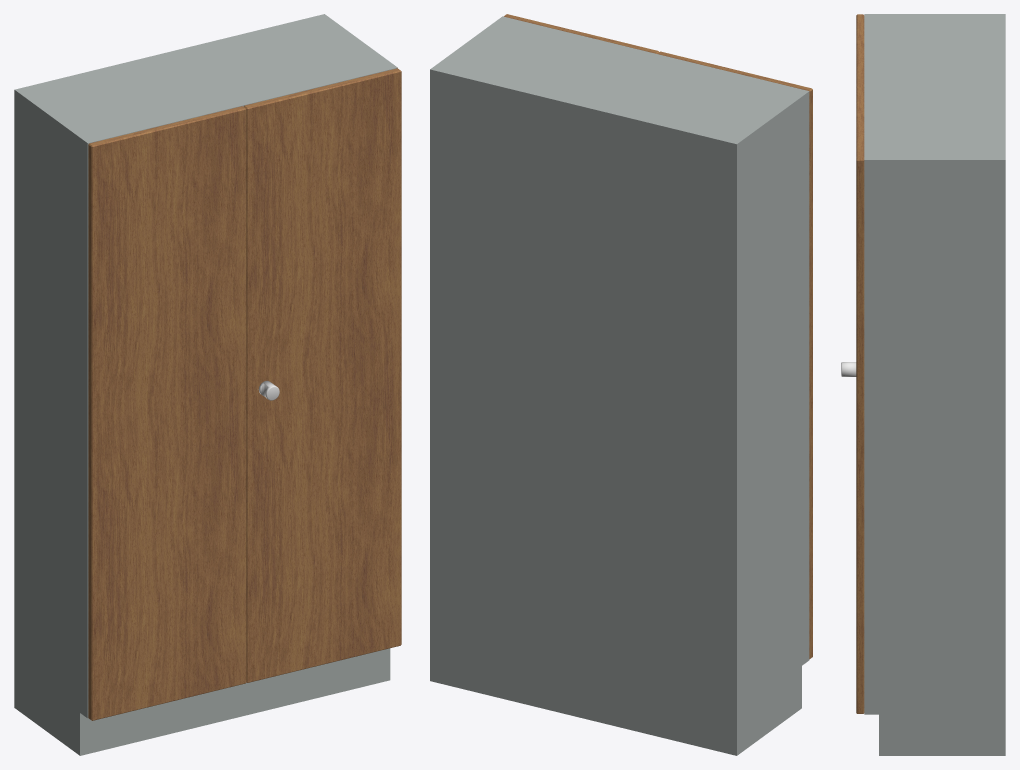
The model's file is Closet.glb.
3 views of the same model, side by side, from view 1: azimuth 30°, elevation 25°; view 2: azimuth 150°, elevation 25°; view 3: azimuth 270°, elevation 25° (orthographic). The views are drawn at different scales.
Visible parts, largest first — view 1: LeftDoor, RightDoor, Body; view 2: Body, LeftDoor; view 3: Body, RightDoor, LeftDoor.
Part boxes in pixels (x1=…): LeftDoor: x1=88, y1=106, x2=246, y2=720; RightDoor: x1=243, y1=68, x2=401, y2=682; Body: x1=14, y1=14, x2=397, y2=755; Body: x1=430, y1=16, x2=809, y2=755; LeftDoor: x1=657, y1=51, x2=812, y2=659; Body: x1=864, y1=14, x2=1005, y2=755; RightDoor: x1=856, y1=87, x2=864, y2=713; LeftDoor: x1=856, y1=14, x2=864, y2=87.
Size of the model in its own units: 1.05 by 2 by 0.4992.
4 materials, 1 textured.
